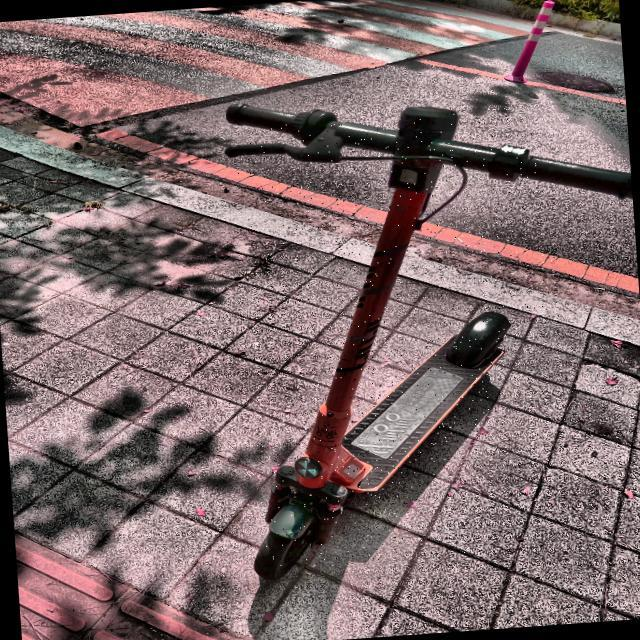bike: (225, 99, 638, 581)
